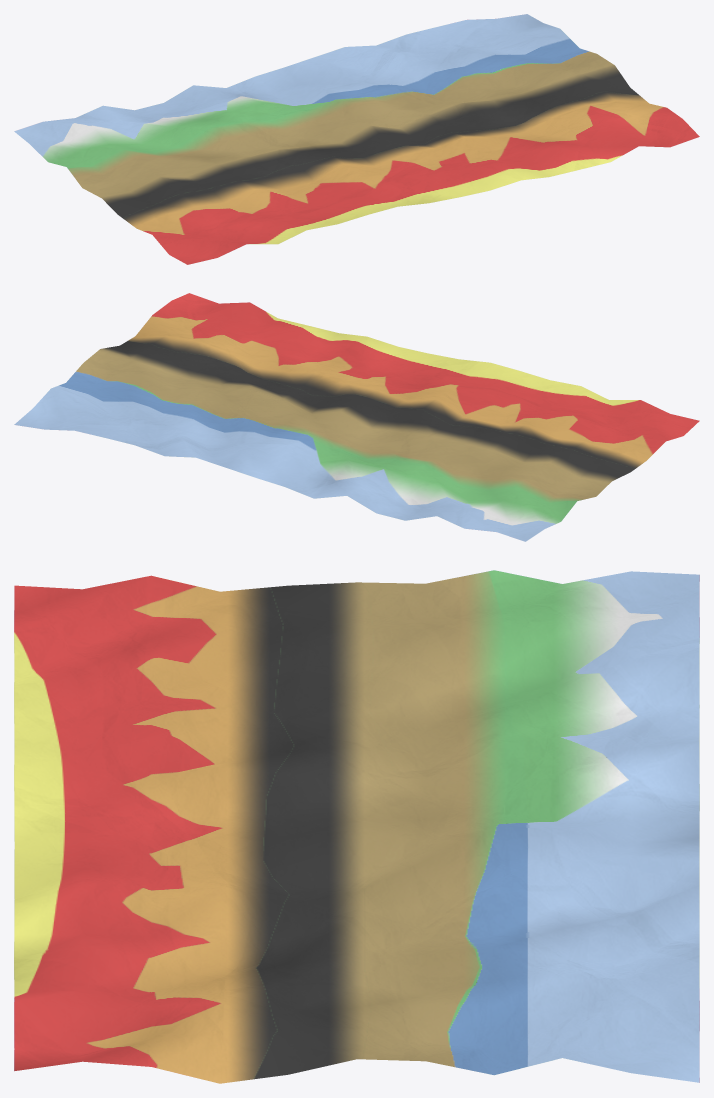
The model's file is main_menu_back.fbx.
3 renders of one model, top to bottom at view 1: azimuth 30°, elevation 25°; view 2: azimuth 150°, elevation 25°; view 3: azimuth 270°, elevation 25°, orthographic. The views are drawn at different scales.
Visible parts, largest first — view 1: main_menu_back; view 2: main_menu_back; view 3: main_menu_back.
Boxes of the visible parts, left/top/right/bottom form: main_menu_back: left=14, top=14, right=699, bottom=264; main_menu_back: left=14, top=293, right=699, bottom=541; main_menu_back: left=14, top=570, right=699, bottom=1083.
Size of the model in its own units: 17093 by 419 by 10007.
